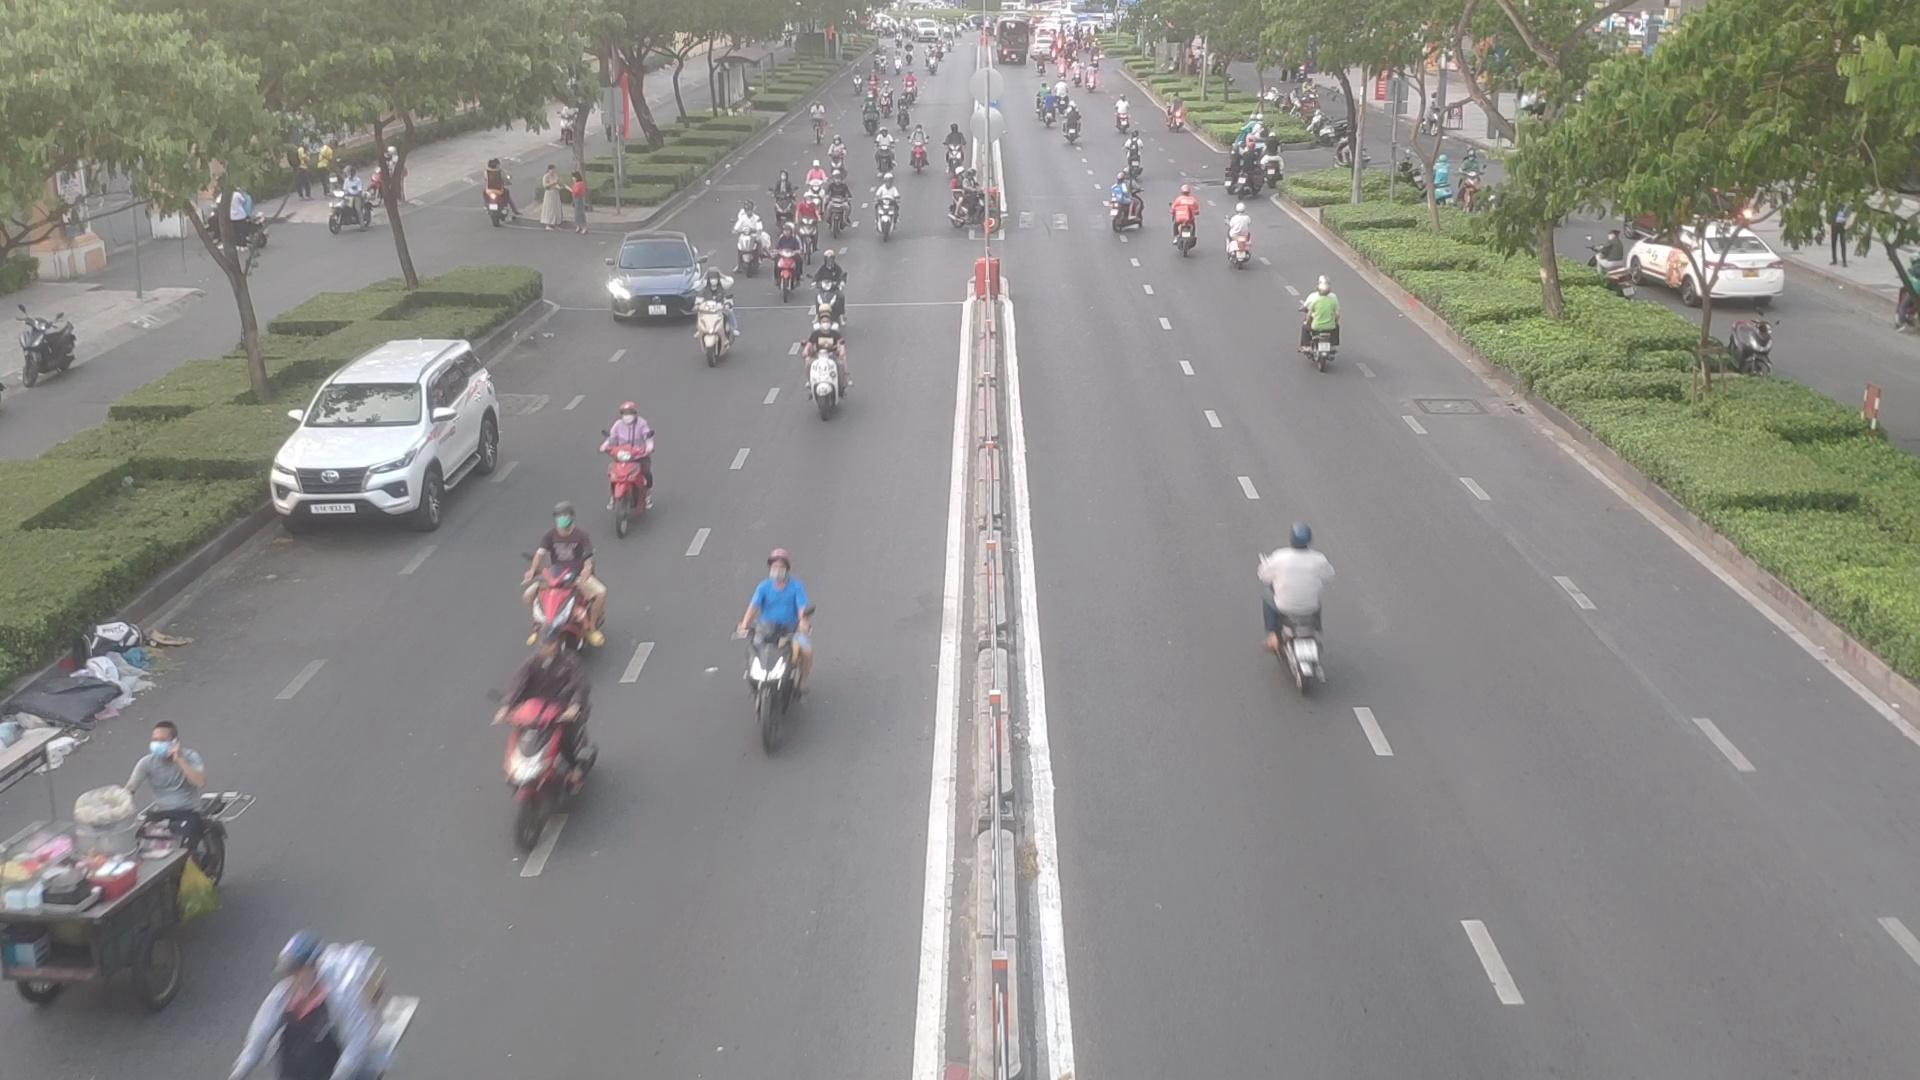car: (273, 338, 518, 531), (599, 239, 712, 324)
motorbike: (196, 938, 410, 1080), (496, 632, 609, 835), (738, 562, 823, 746), (1251, 527, 1341, 691), (596, 404, 662, 521), (796, 324, 860, 421), (1295, 286, 1356, 371), (694, 295, 750, 367), (949, 169, 1001, 237), (769, 227, 806, 295), (1101, 181, 1142, 236), (1167, 193, 1203, 256), (868, 181, 902, 239), (725, 223, 762, 276), (1226, 211, 1261, 268), (1120, 129, 1153, 182), (824, 189, 856, 239), (773, 173, 798, 227), (943, 120, 968, 174), (824, 133, 849, 185), (798, 198, 819, 256), (909, 131, 936, 171), (872, 127, 899, 167), (804, 160, 825, 211), (1062, 108, 1087, 146)
